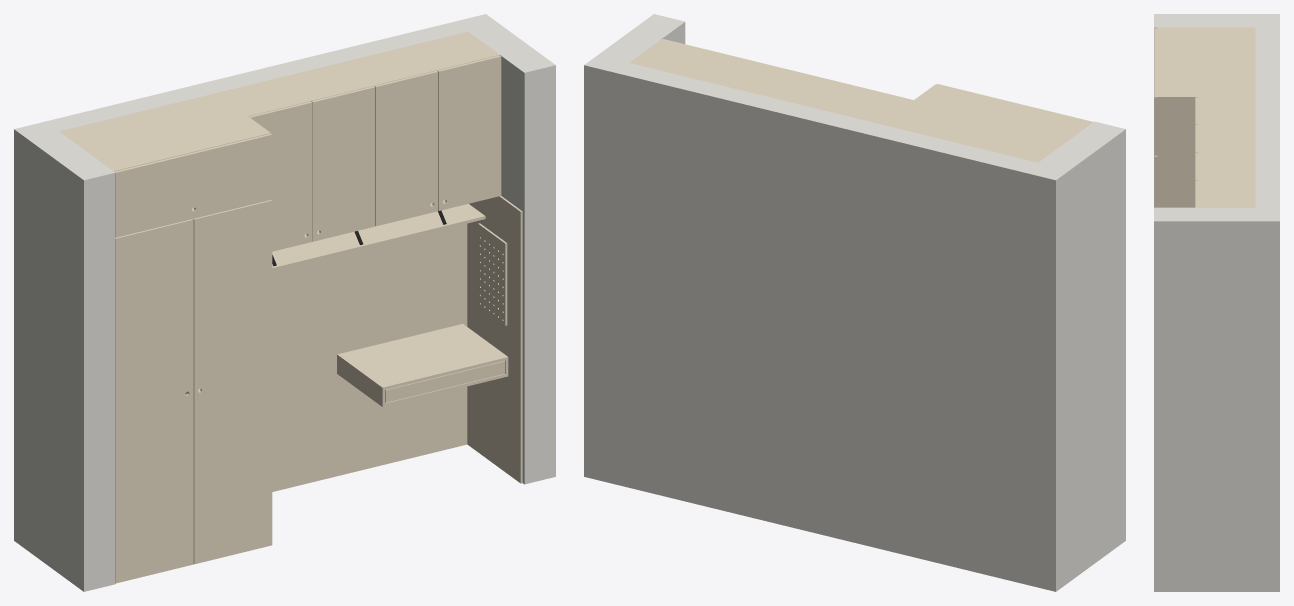
File: birch-ply-room-chiswick.glb
The picture shows the model from 3 angles, left to right: view 1: azimuth 30°, elevation 25°; view 2: azimuth 150°, elevation 25°; view 3: azimuth 270°, elevation 25°; orthographic projection. The views are drawn at different scales.
Parts seen in each view (by area): view 1: Room: Left wall, Wardrobe: Door, right (hinged right), Wardrobe: Door, left (hinged left), Wall lining: Back wall, right sheet, Room: Right wall, Wall lining: Back wall, left sheet, Room: Back wall, Wardrobe: Top box: Door, Wall lining: Side wall, Overhead cupboards: Door 2 (hinged right), Overhead cupboards: Door 4 (hinged right), Overhead cupboards: Door 3 (hinged left) (+8 smaller); view 2: Room: Back wall, Room: Left wall, Wardrobe: Top box: Top, Overhead cupboards: Top, Room: Right wall; view 3: Room: Right wall, Room: Back wall, Wardrobe: Top box: Top, Overhead cupboards: Top, Wardrobe: Top box: Side, right, Wardrobe: Side, right, Room: Left wall, Wardrobe: Top box: Door, Wardrobe: Door, right (hinged right), Wardrobe: Top box: Side, left.
Boxes of the visible parts, left/top/right/bottom form: Room: Left wall: left=27, top=131, right=115, bottom=591; Wardrobe: Door, right (hinged right): left=193, top=200, right=272, bottom=564; Wardrobe: Door, left (hinged left): left=115, top=219, right=193, bottom=583; Wall lining: Back wall, right sheet: left=343, top=223, right=467, bottom=474; Room: Right wall: left=468, top=24, right=555, bottom=484; Wall lining: Back wall, left sheet: left=272, top=254, right=343, bottom=491; Room: Back wall: left=14, top=14, right=498, bottom=550; Wardrobe: Top box: Door: left=114, top=133, right=272, bottom=237; Wall lining: Side wall: left=467, top=196, right=522, bottom=483; Overhead cupboards: Door 2 (hinged right): left=311, top=86, right=375, bottom=241; Overhead cupboards: Door 4 (hinged right): left=437, top=55, right=501, bottom=210; Overhead cupboards: Door 3 (hinged left): left=374, top=70, right=438, bottom=226; Room: Back wall: left=584, top=55, right=1069, bottom=591; Room: Left wall: left=1038, top=121, right=1125, bottom=581; Wardrobe: Top box: Top: left=884, top=85, right=1089, bottom=161; Overhead cupboards: Top: left=632, top=40, right=909, bottom=123; Room: Right wall: left=598, top=14, right=685, bottom=62; Room: Right wall: left=1154, top=207, right=1255, bottom=591; Room: Back wall: left=1255, top=14, right=1279, bottom=591; Wardrobe: Top box: Top: left=1157, top=29, right=1255, bottom=95; Overhead cupboards: Top: left=1198, top=98, right=1255, bottom=206; Wardrobe: Top box: Side, right: left=1157, top=95, right=1255, bottom=156; Wardrobe: Side, right: left=1157, top=156, right=1195, bottom=207; Room: Left wall: left=1154, top=14, right=1255, bottom=207; Wardrobe: Top box: Door: left=1154, top=28, right=1157, bottom=155; Wardrobe: Door, right (hinged right): left=1154, top=155, right=1157, bottom=207; Wardrobe: Top box: Side, left: left=1157, top=27, right=1255, bottom=28.
Size of the model in its own units: 3 by 2.5 by 0.77.
